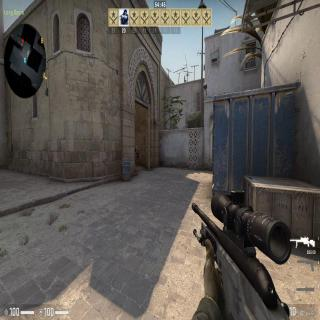T-Body: (135, 145, 139, 163)
T-Head: (136, 146, 137, 149)
